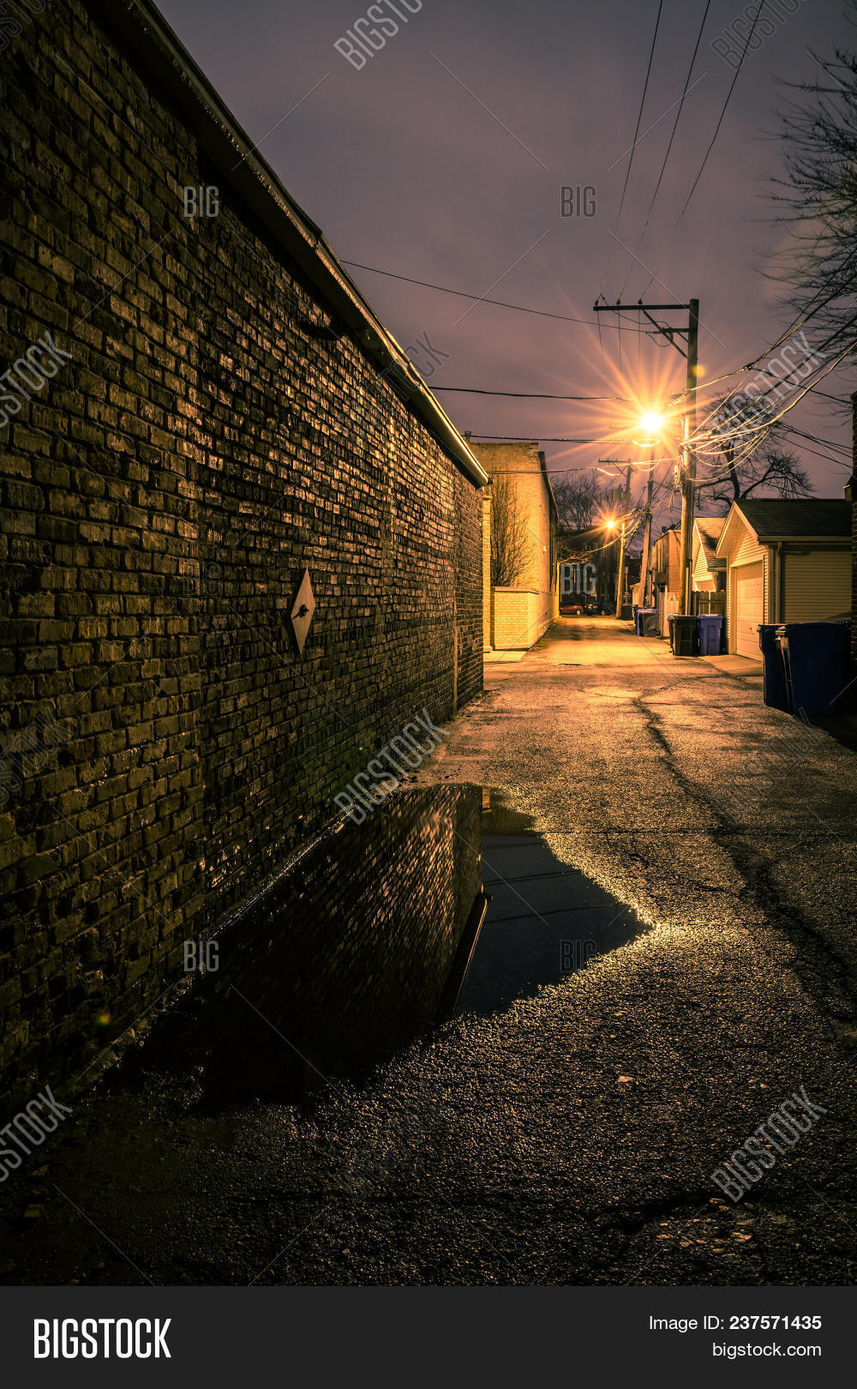Wall: (10, 189, 205, 988), (227, 363, 352, 788)
